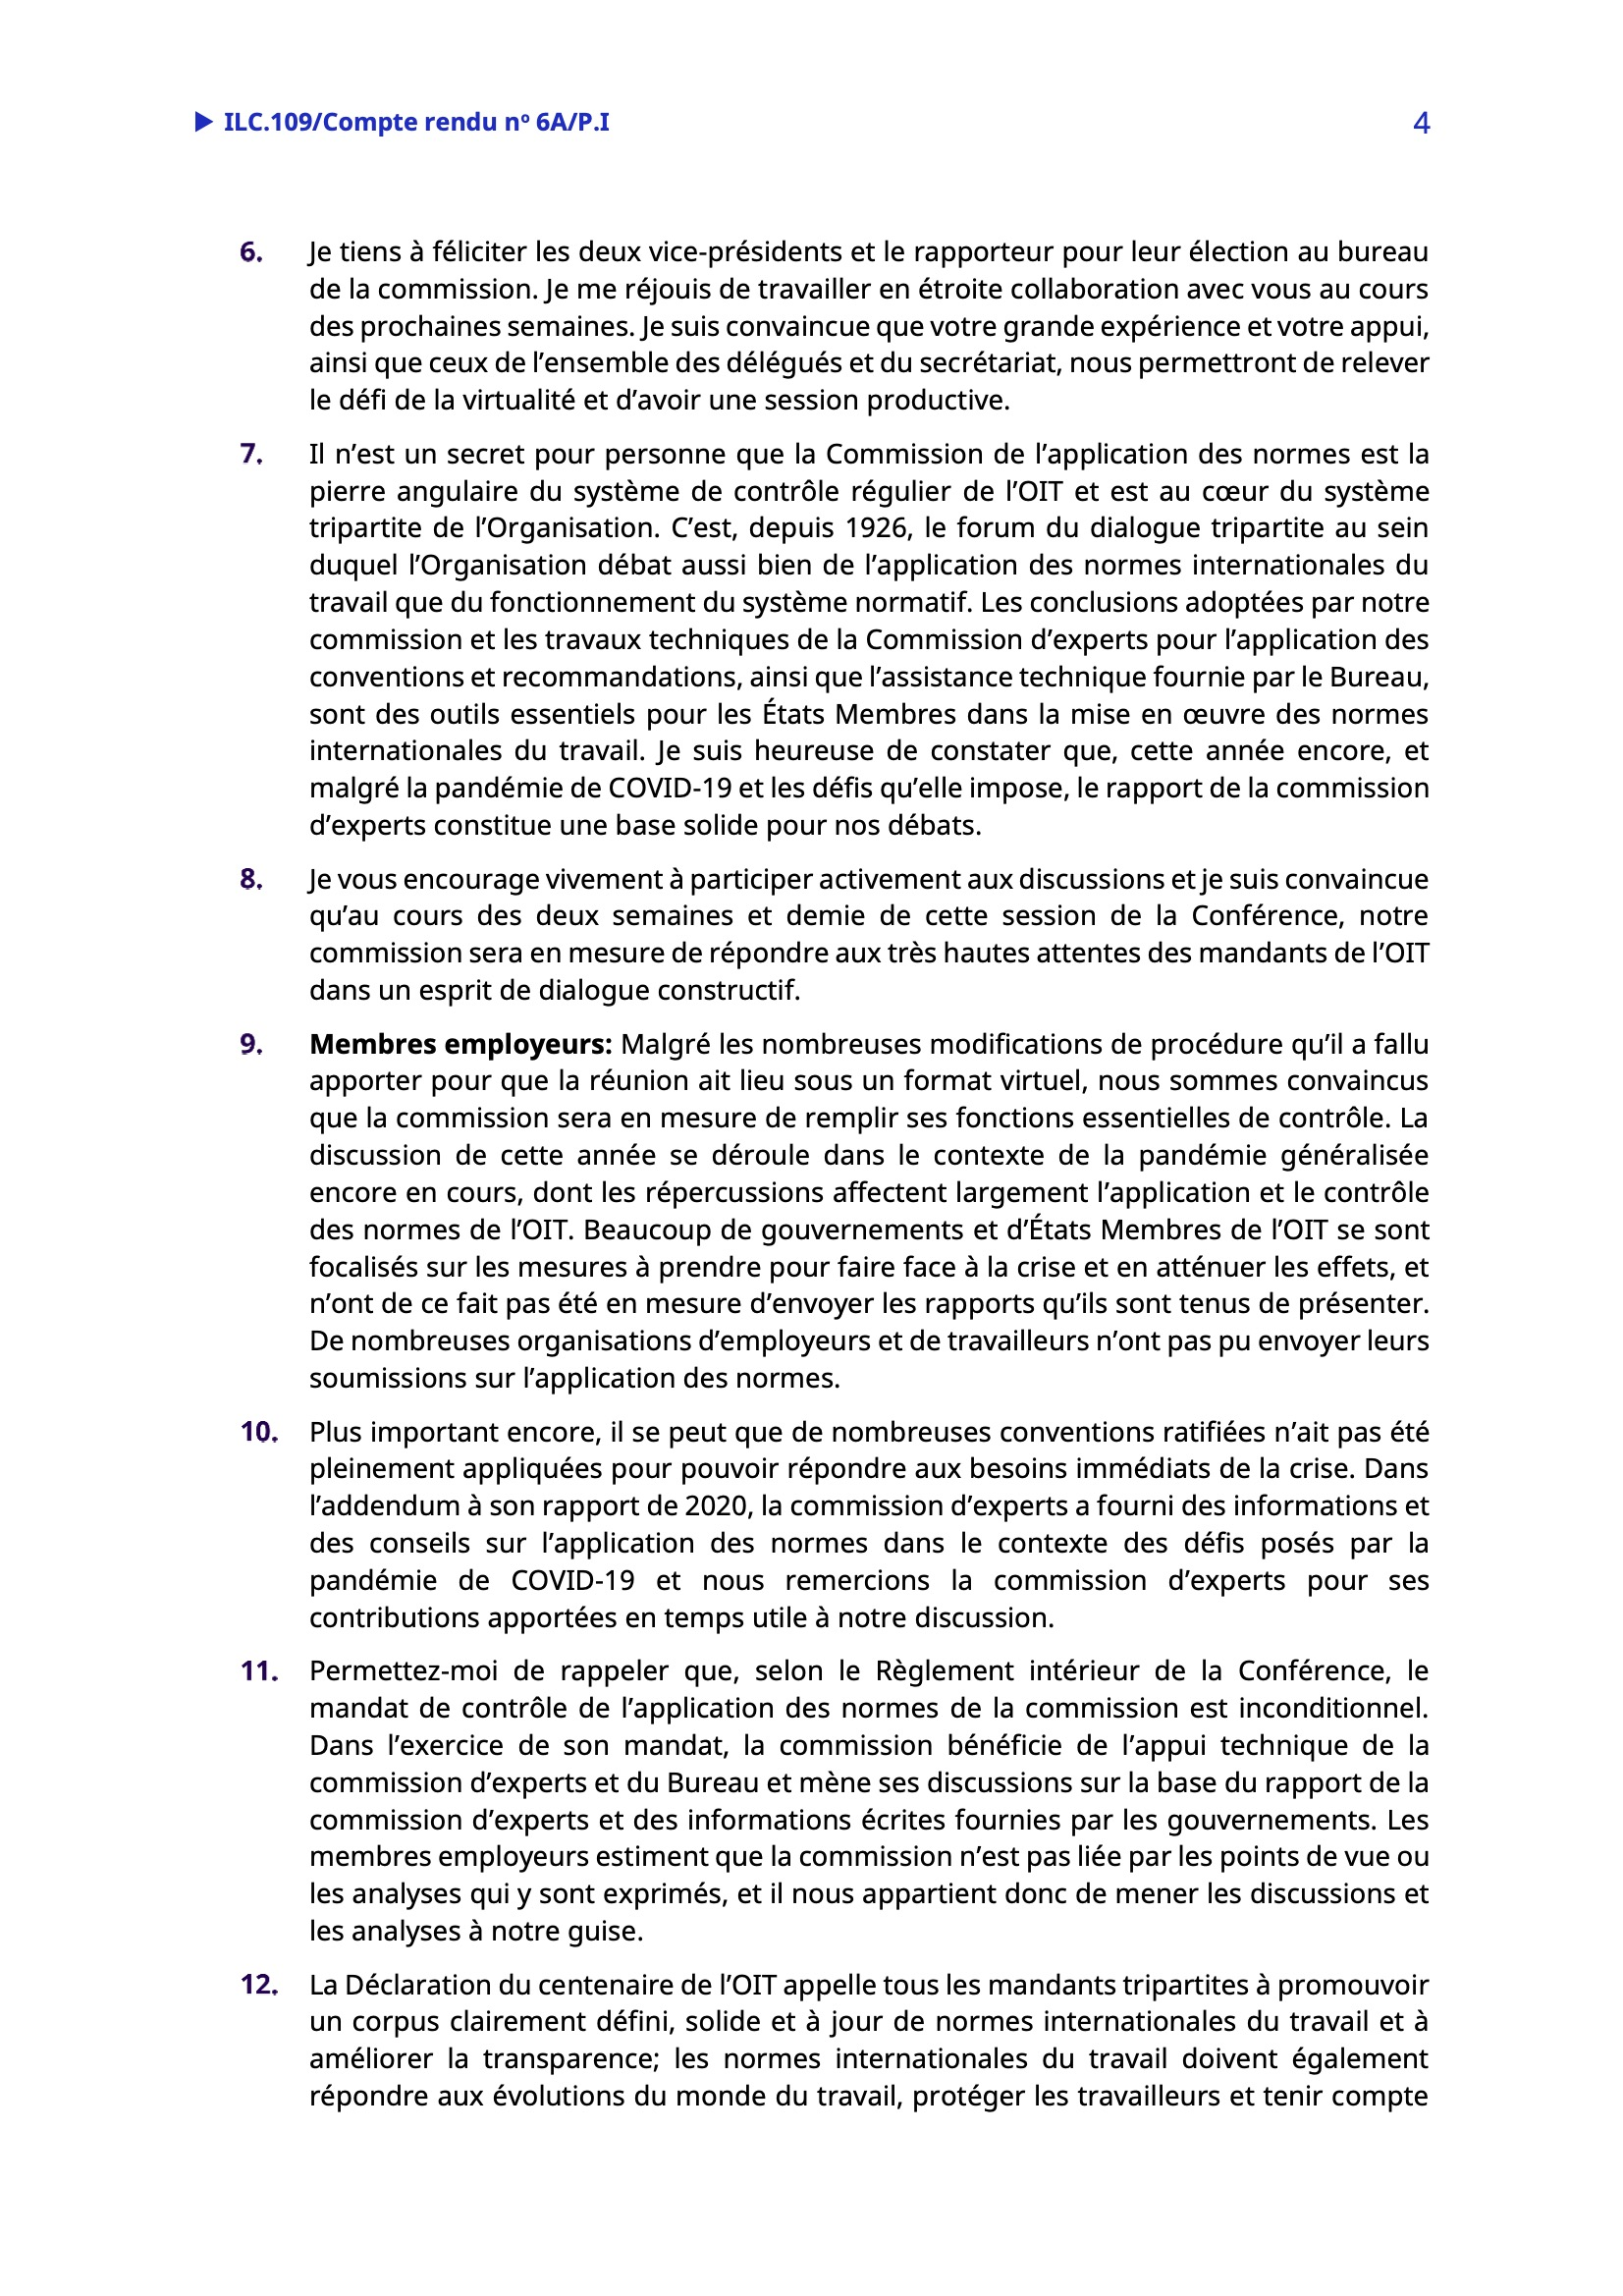MainZone-ListItem: (220, 429, 1442, 850), (220, 1021, 1437, 1402), (228, 1646, 1437, 1953), (232, 1412, 1439, 1639), (213, 225, 1444, 425), (232, 1962, 1439, 2127), (223, 857, 1439, 1017)
NumberingZone: (1403, 100, 1435, 149)
RunningTitleZone: (172, 93, 622, 151)
